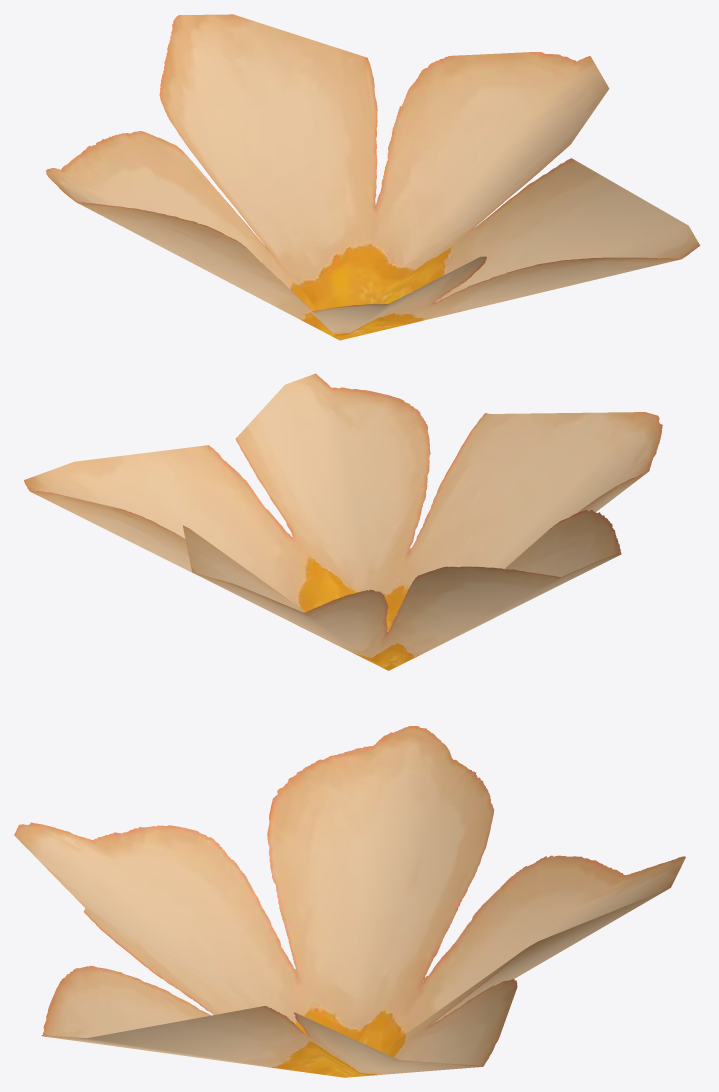
Rendered from Petal_2.glb.
The picture shows the model from 3 angles, top to bottom: view 1: azimuth 30°, elevation 25°; view 2: azimuth 150°, elevation 25°; view 3: azimuth 270°, elevation 25°; orthographic projection. The views are drawn at different scales.
Parts seen in each view (by area): view 1: Petal_2; view 2: Petal_2; view 3: Petal_2.
Boxes of the visible parts, x1=… form: Petal_2: x1=45, y1=14, x2=700, y2=340; Petal_2: x1=24, y1=373, x2=662, y2=670; Petal_2: x1=14, y1=726, x2=685, y2=1077.
Size of the model in its own units: 0.6732 by 0.236 by 0.6311.
1 material, 1 textured.
